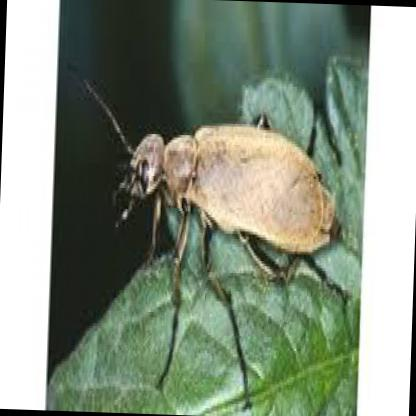blister beetle: (71, 66, 344, 303)
